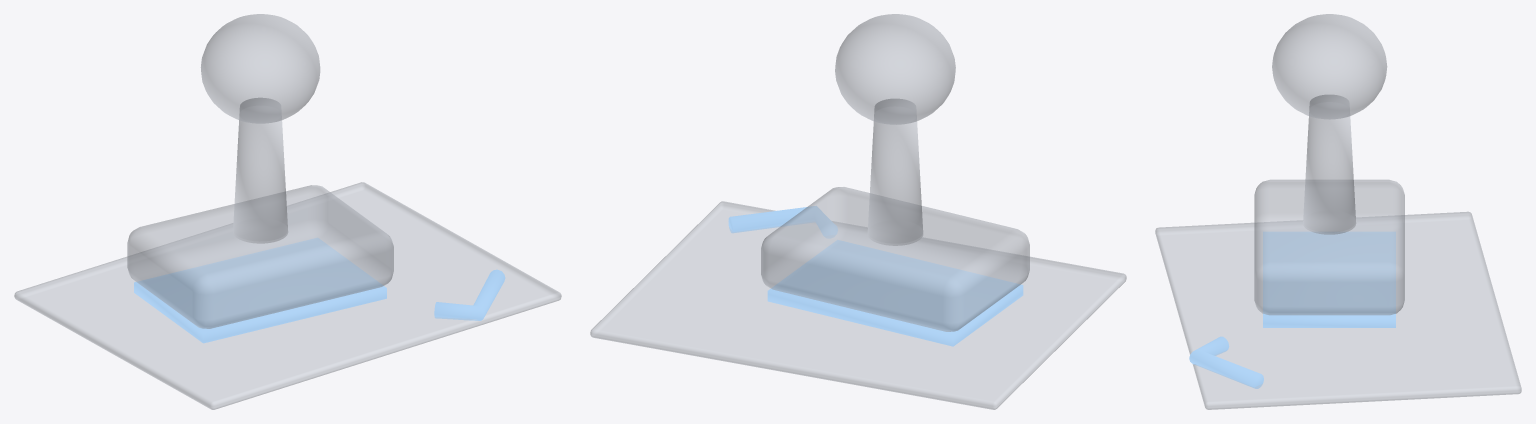
Rendered from encaisse.glb.
The picture shows the model from 3 angles, left to right: view 1: azimuth 30°, elevation 25°; view 2: azimuth 150°, elevation 25°; view 3: azimuth 270°, elevation 25°; orthographic projection. The views are drawn at different scales.
Visible parts, largest first — view 1: facture, semelle, encre, bouton, col, coche; view 2: facture, semelle, encre, bouton, col, coche; view 3: facture, semelle, encre, bouton, col, coche.
Part boxes in pixels (bbox=[...]): facture: bbox=[14, 182, 561, 409]; semelle: bbox=[127, 185, 393, 328]; encre: bbox=[134, 237, 386, 343]; bouton: bbox=[201, 14, 320, 123]; col: bbox=[233, 98, 287, 243]; coche: bbox=[434, 269, 505, 320]; facture: bbox=[590, 201, 1126, 409]; semelle: bbox=[761, 187, 1029, 331]; encre: bbox=[767, 240, 1023, 346]; bouton: bbox=[835, 14, 955, 124]; col: bbox=[867, 99, 923, 245]; coche: bbox=[728, 206, 837, 238]; facture: bbox=[1155, 211, 1521, 409]; semelle: bbox=[1254, 179, 1404, 315]; encre: bbox=[1263, 231, 1395, 327]; bouton: bbox=[1272, 14, 1387, 119]; col: bbox=[1303, 95, 1355, 234]; coche: bbox=[1189, 336, 1263, 388].
Bounding box in the file's own units: 1.03 × 0.697 × 0.8266.
